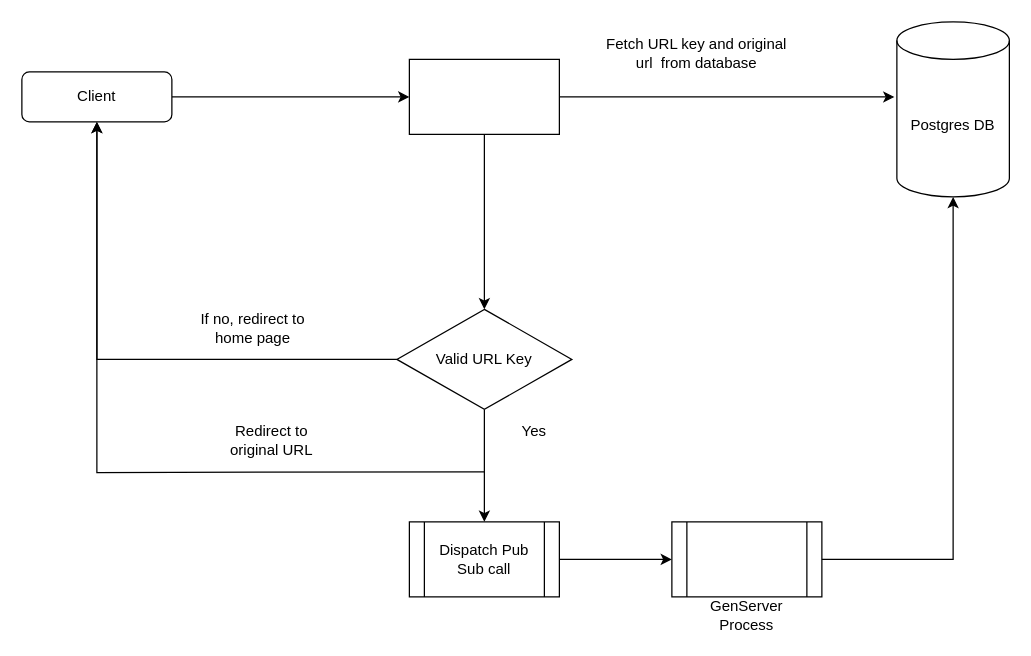
Some shapes in this 1031 by 656 pixel diagram are drawn without their labels. The centre of each missing label's shape, as x and y in pixels:
"Record Click metrics" goes at point (746, 559).
"Redirection service" goes at point (483, 96).
